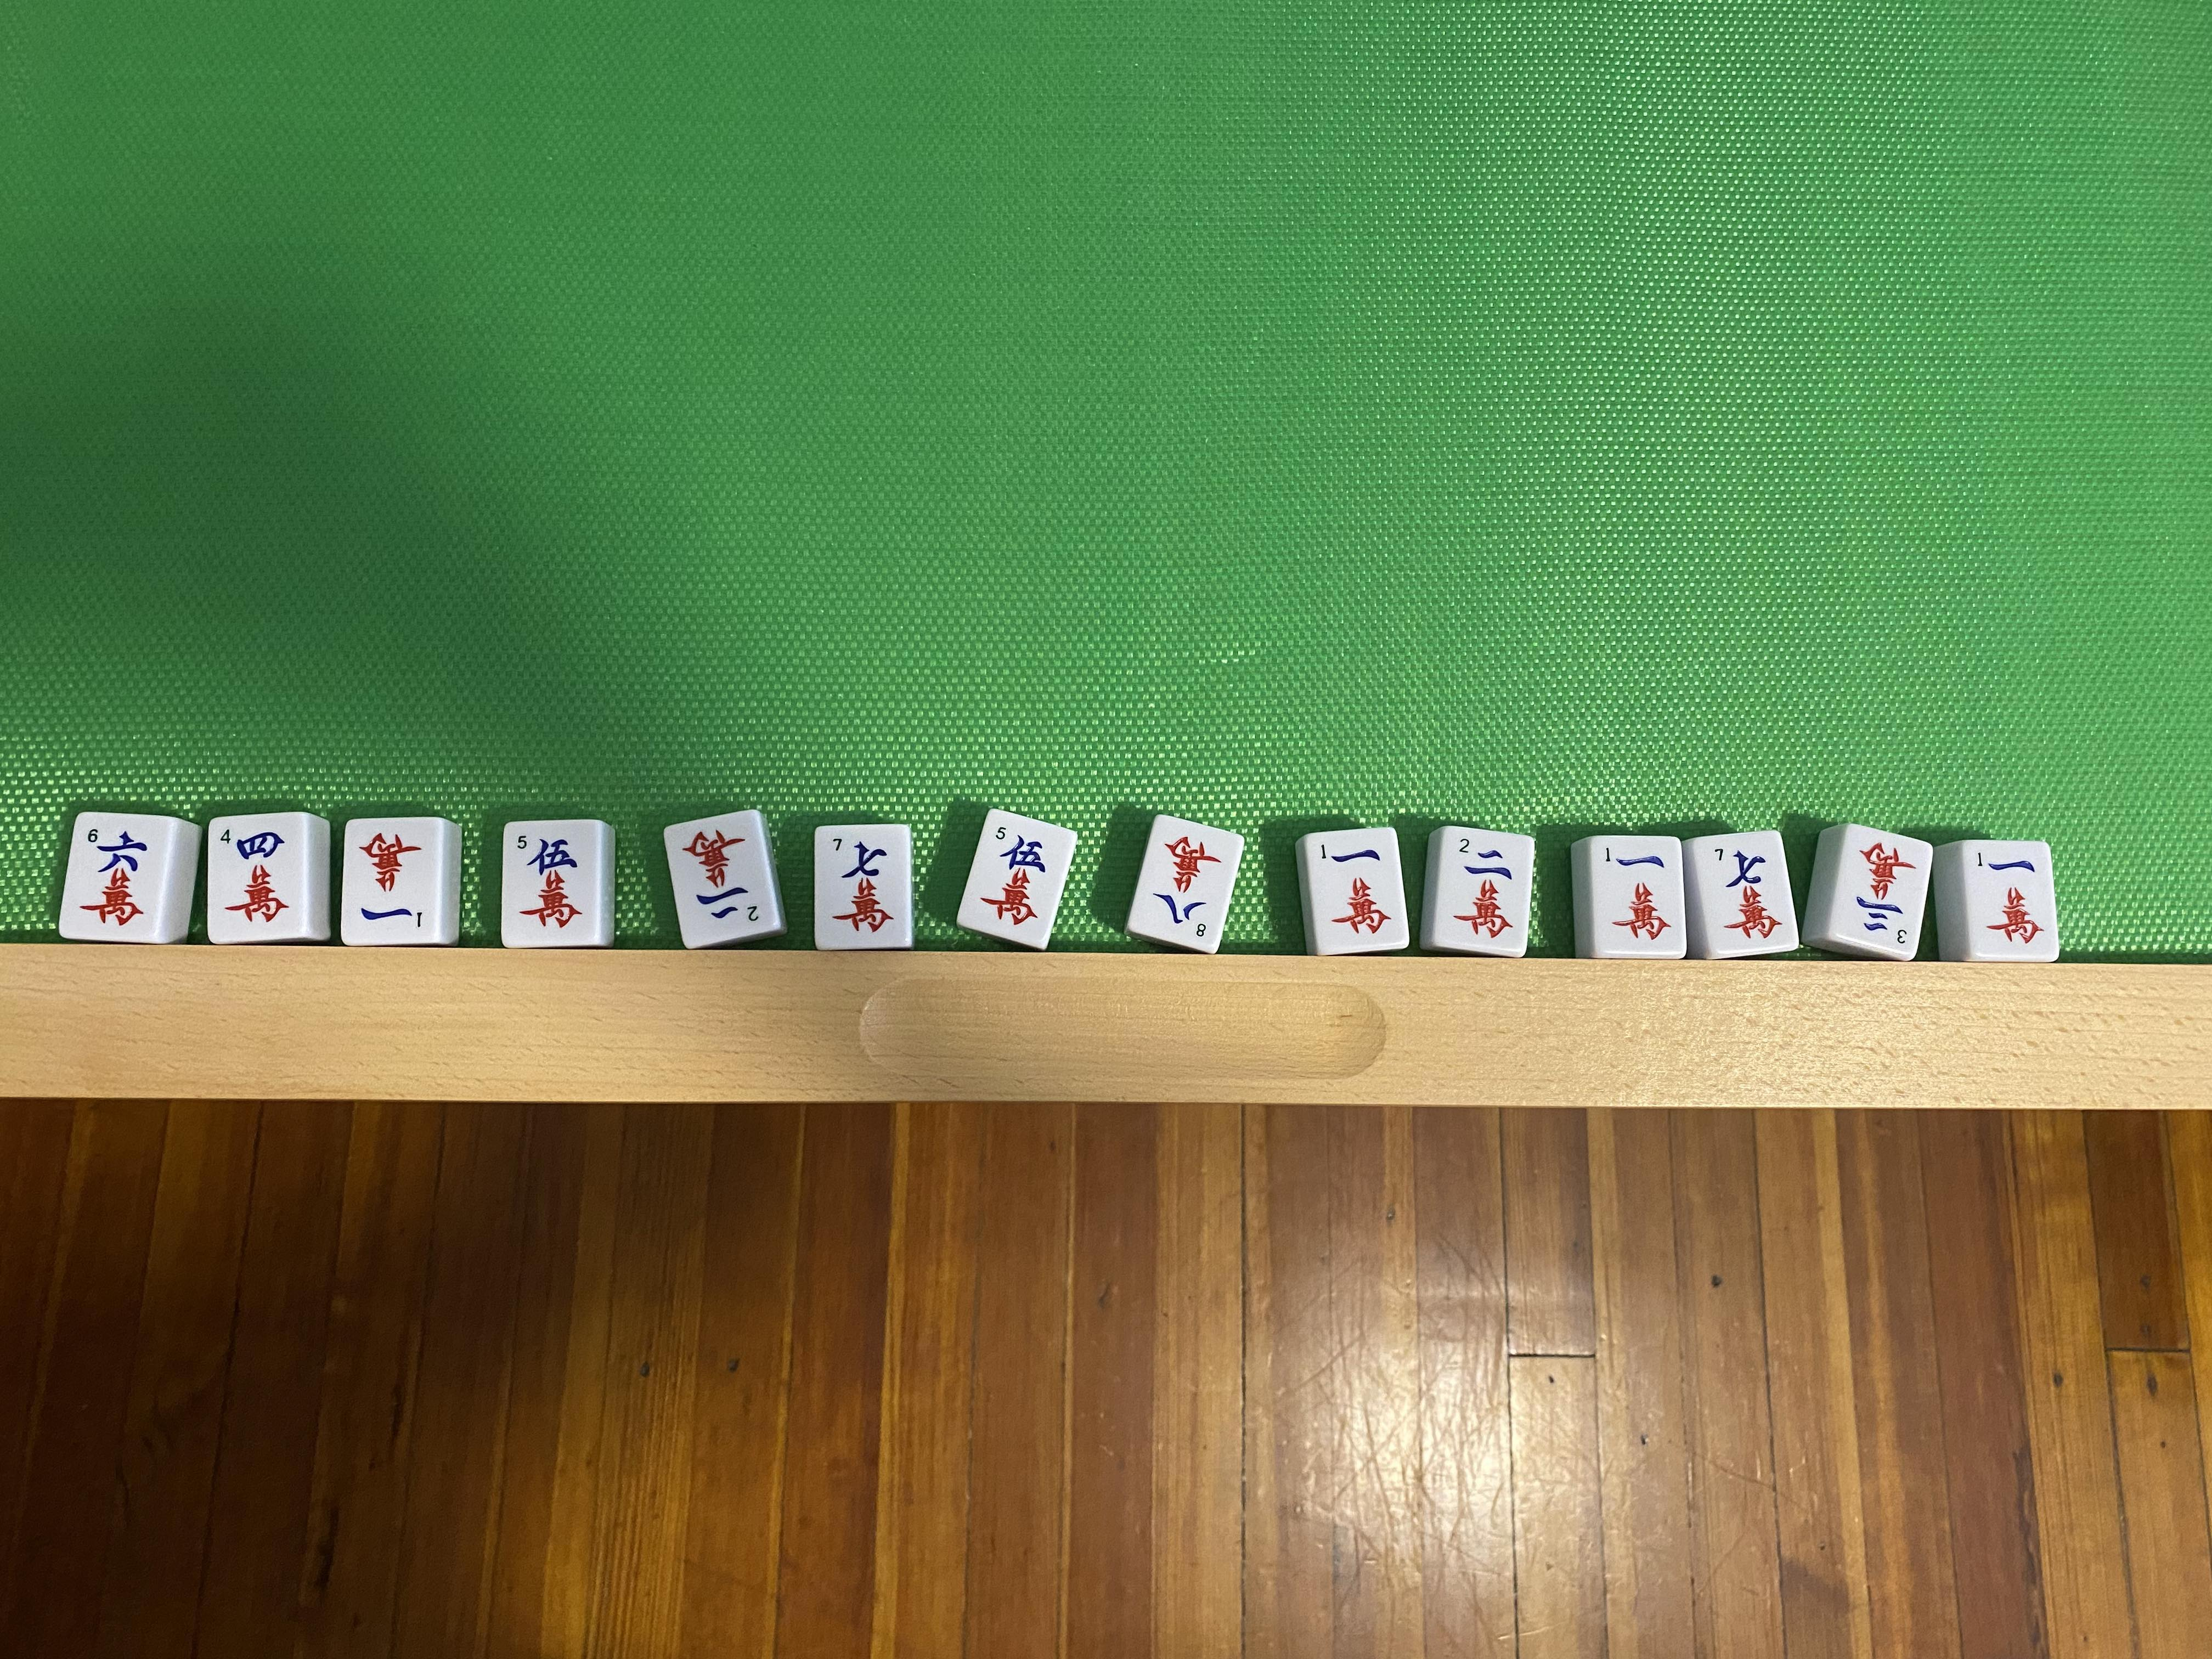character-eight: (1144, 819, 1228, 943)
character-five: (968, 812, 1052, 934), (512, 830, 590, 932)
character-four: (216, 824, 294, 931)
character-one: (348, 824, 437, 938), (1312, 835, 1404, 943), (1590, 840, 1679, 951), (1963, 843, 2048, 957)
character-seven: (1702, 835, 1789, 943), (822, 828, 900, 943)
character-six: (75, 824, 155, 936)
character-three: (1838, 826, 1923, 951)
character-two: (1440, 828, 1522, 943), (679, 824, 761, 934)
